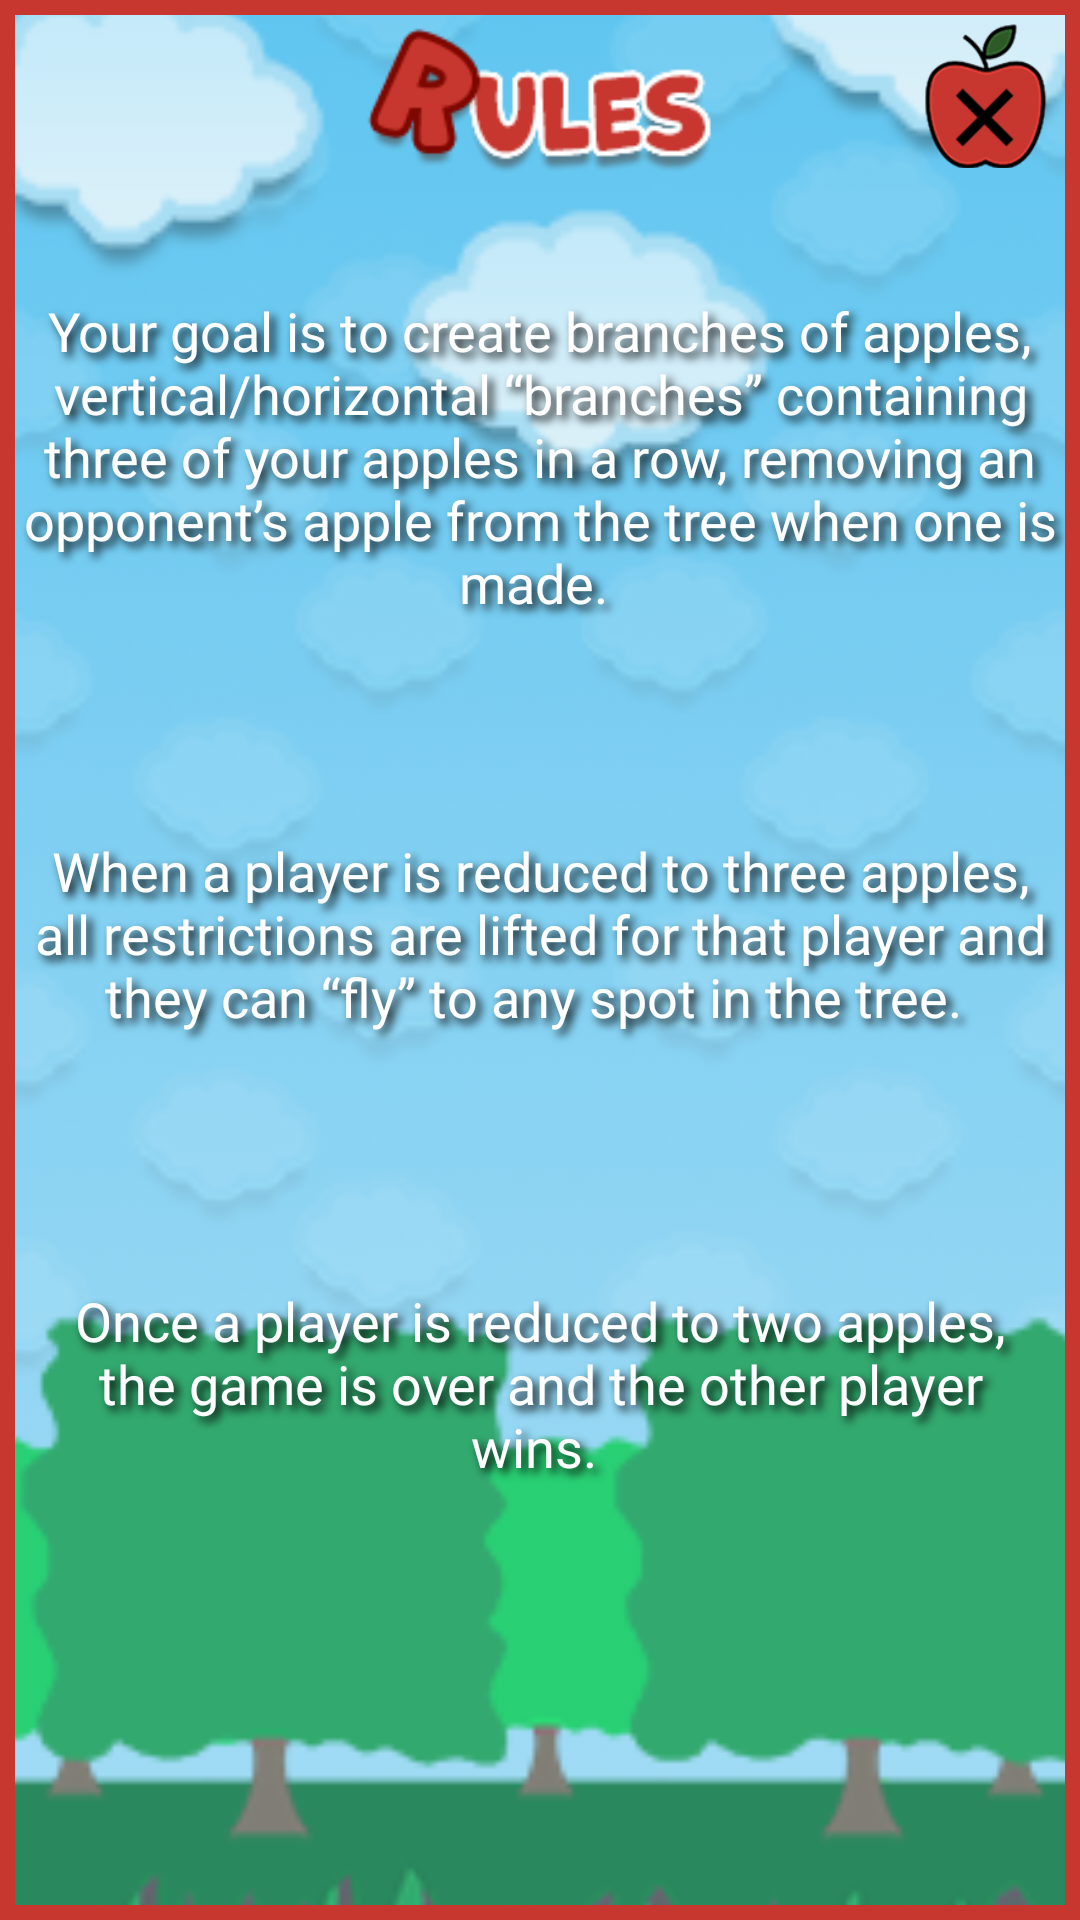

Screen size 1080px×1920px. Icon name, then its center in pixels as [x,y]:
closebutton: [984,96]
